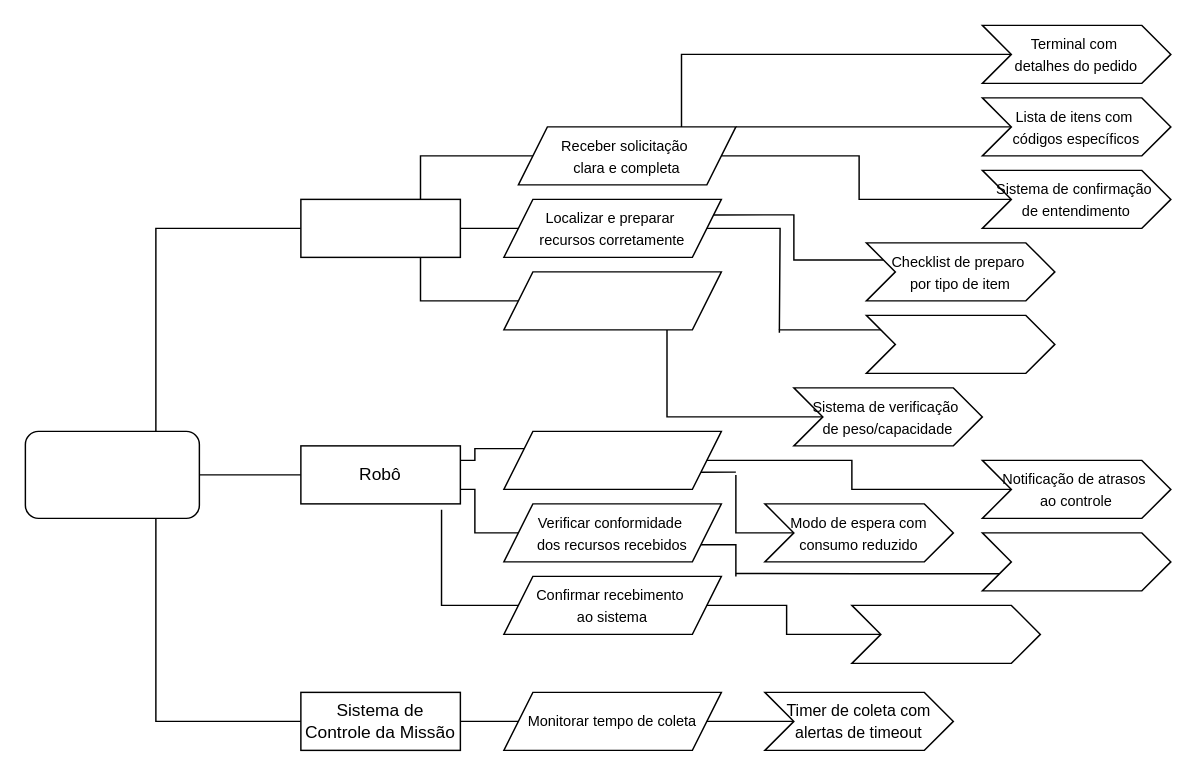
The diagram is 1196 pixels wide and 776 high, and some of its shapes have lost their labels. The shapes that lost their labels are listed below. From the top down, each one's box as (x1, y1, x2, y2) in pixels, then its label:
(299, 198, 460, 257): Equipe do Armazém
(502, 270, 721, 330): Transferir recursos com segurança para o robô
(865, 314, 1055, 373): Guia visual de localização no armazém
(24, 430, 199, 518): Recurso é entregue ao robô
(502, 430, 721, 489): Aguardar de forma eficiente a preparação
(981, 531, 1171, 591): Scanner de código de barras/QR code
(850, 604, 1040, 663): Assinatura digital do funcionário
